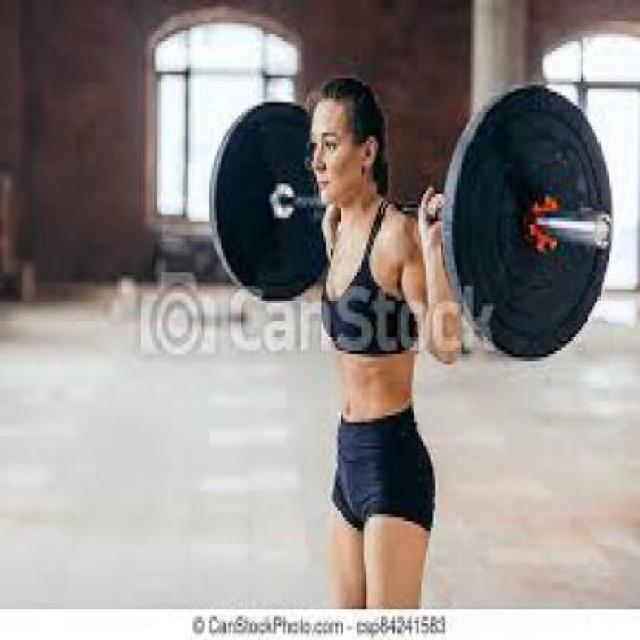barbell: (438, 76, 629, 367)
